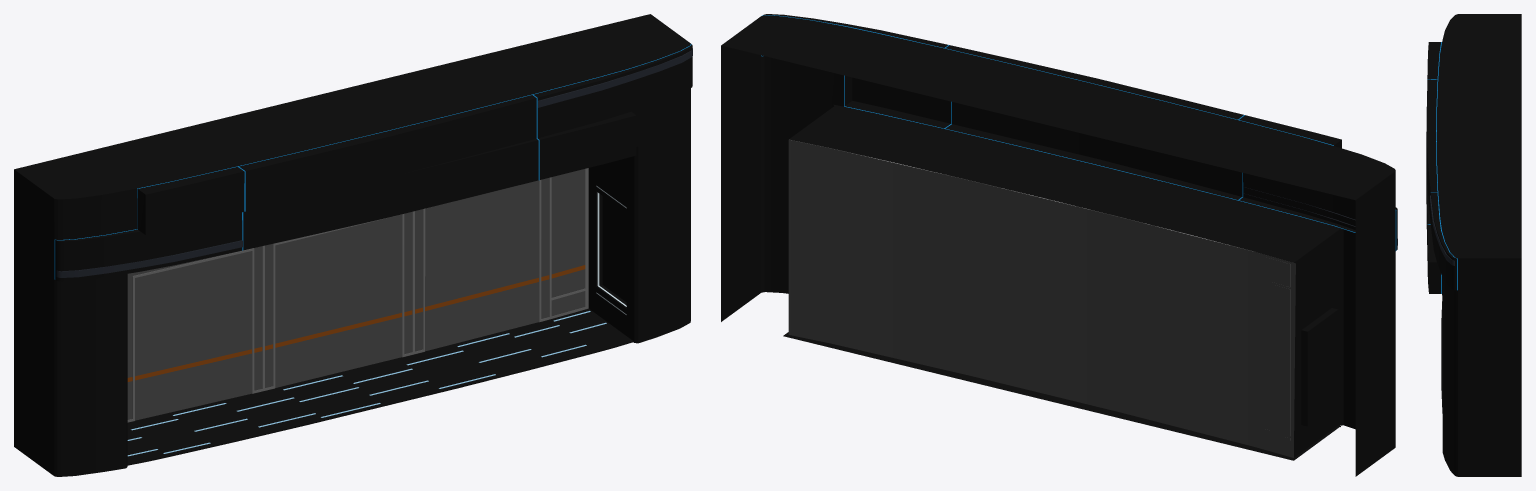
The model's file is Wall_Door_12x5x2_003_L1.fbx.
3 renders of one model, left to right at view 1: azimuth 30°, elevation 25°; view 2: azimuth 150°, elevation 25°; view 3: azimuth 270°, elevation 25°, orthographic. The views are drawn at different scales.
Parts seen in each view (by area): view 1: Wall_Door_12x5x2_003_L1; view 2: Wall_Door_12x5x2_003_L1; view 3: Wall_Door_12x5x2_003_L1.
Part boxes in pixels (x1,y1,x2,y2): Wall_Door_12x5x2_003_L1: (14, 14, 692, 476); Wall_Door_12x5x2_003_L1: (721, 14, 1397, 476); Wall_Door_12x5x2_003_L1: (1426, 14, 1521, 476).
Bounding box in the file's own units: 12 × 5 × 1.97.
